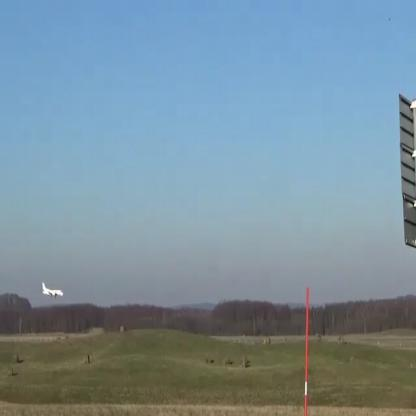CIV_Plane: (41, 281, 64, 298)
